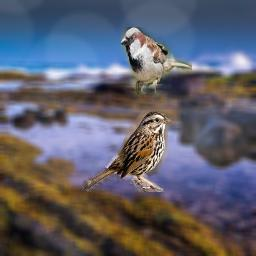Sparrow: (82, 110, 172, 192), (121, 27, 192, 97)
